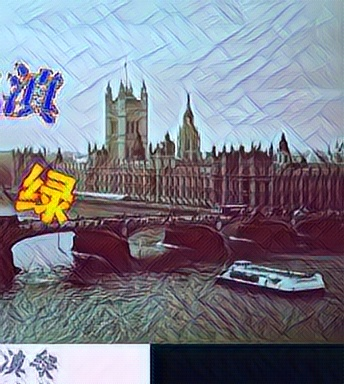B5E1: (1, 60, 64, 127)
C2CC: (12, 161, 75, 228)
